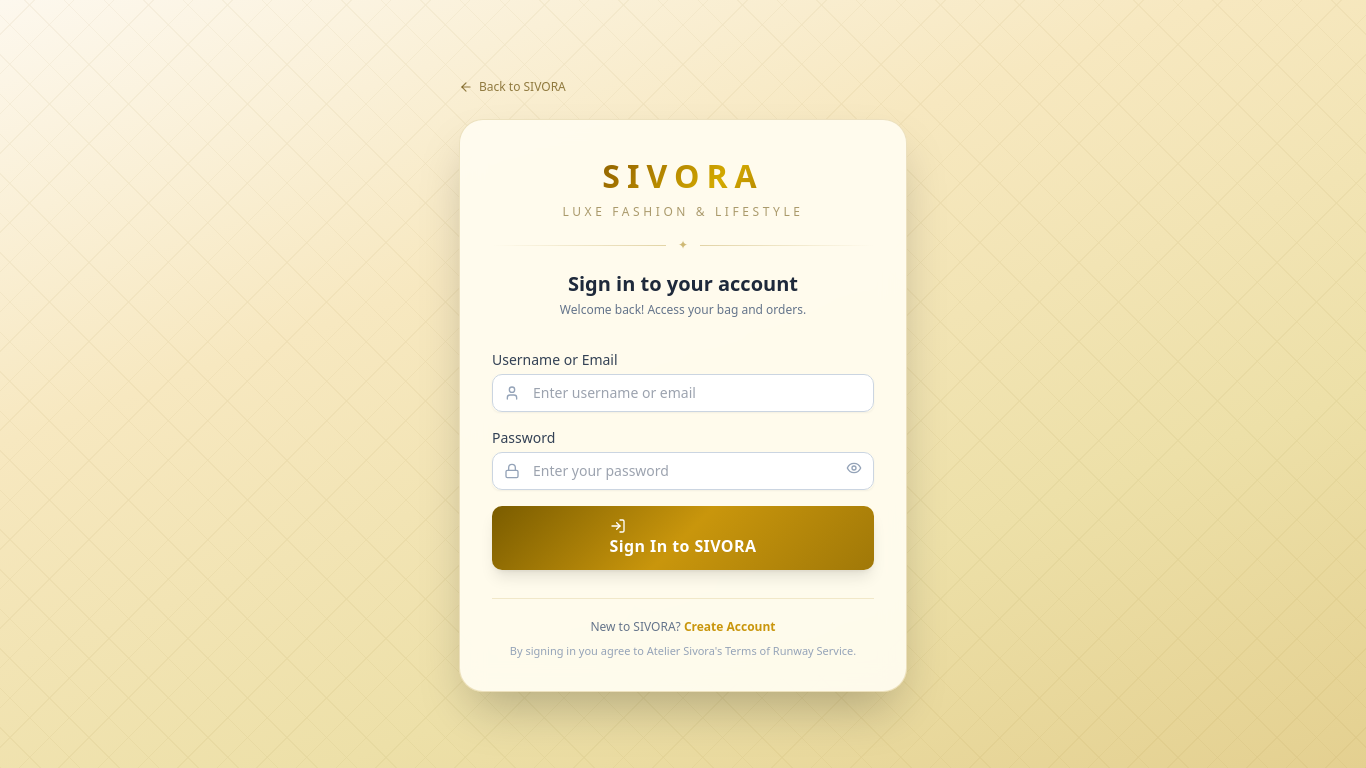
Test: LoginPage & Form Validation › displays client-side Zod validation errors on empty submission
Step 1. Click the button "Sign In to SIVORA" → (683, 538), box left=492, top=506, right=874, bottom=570
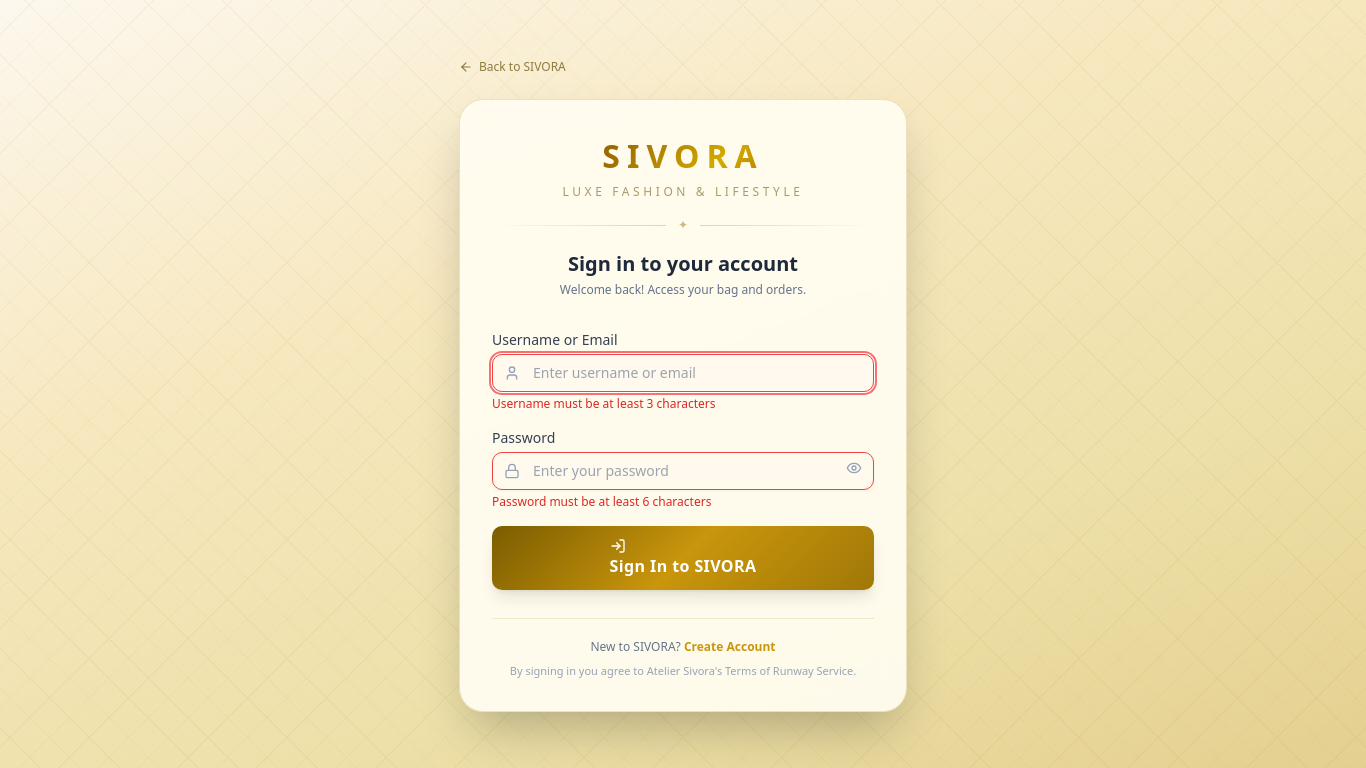
Check: the text "Username must be at least 3 characters" is shown, box left=492, top=395, right=716, bottom=412
Check: the text "Password must be at least 6 characters" is shown, box left=492, top=493, right=711, bottom=510
